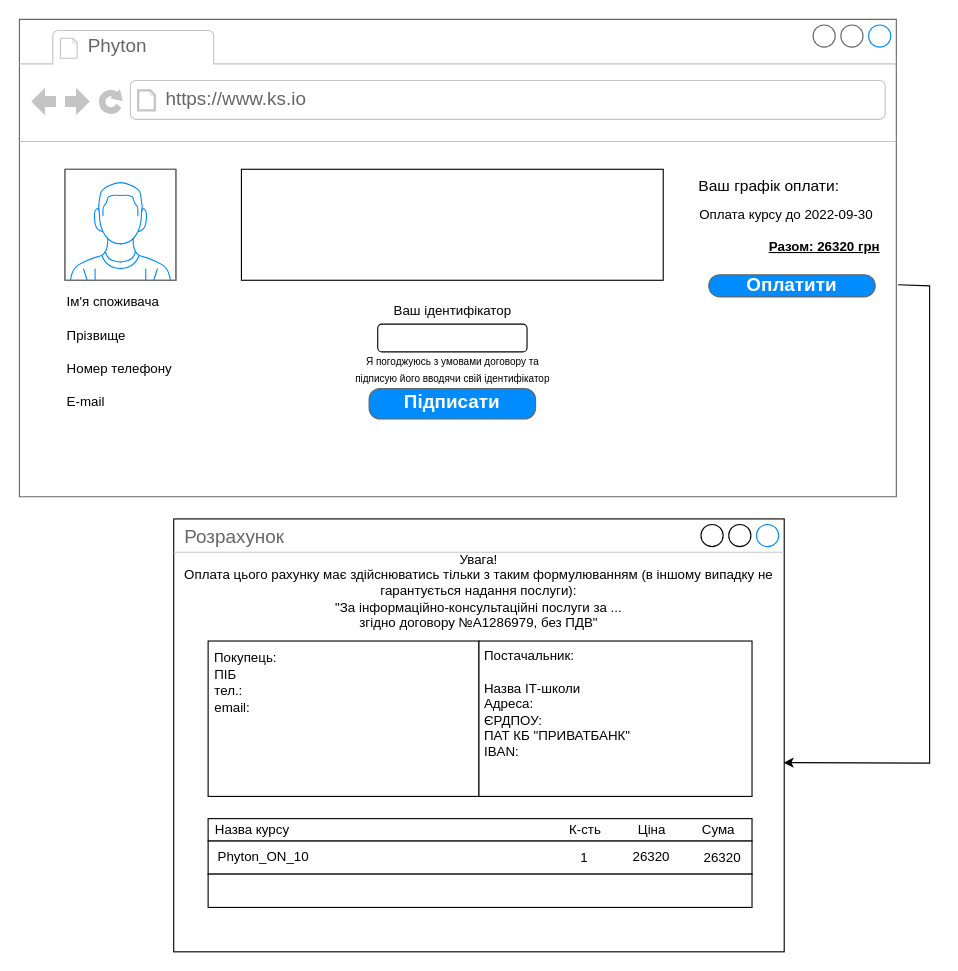
This 958x971 diagram has some shape labels left out. The shapes that lost their labels are listed below. From the top down, each one's centre as x and y in pixels, then its label:
At point 451,224: "Договір про надання інформаційно-консультаційних послуг".
At point 452,337: "введіть ідентифікатор".
At point 479,890: "Всього 26 320 грн., без пдв".
